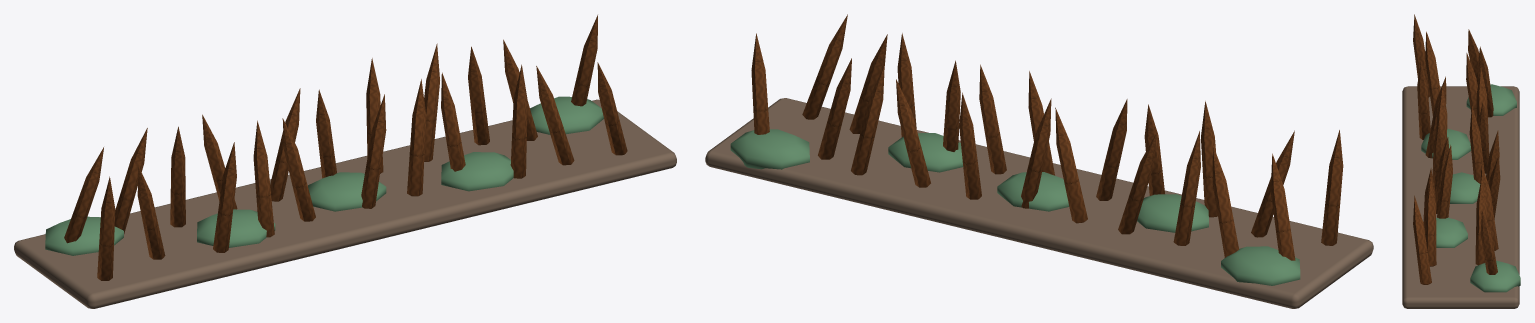
The model's file is fps-survival-forest-outpost-punji-line-f3e57e45__32648.glb.
The picture shows the model from 3 angles, left to right: view 1: azimuth 30°, elevation 25°; view 2: azimuth 150°, elevation 25°; view 3: azimuth 270°, elevation 25°; orthographic projection. The views are drawn at different scales.
Visible parts, largest first — view 1: punji-line; view 2: punji-line; view 3: punji-line.
Part boxes in pixels (x1,y1,x2,y2): punji-line: (14, 15, 676, 308); punji-line: (705, 14, 1373, 308); punji-line: (1402, 14, 1520, 308).
Size of the model in its own units: 3.9 by 0.7885 by 0.9085.
3 materials, 1 textured.
